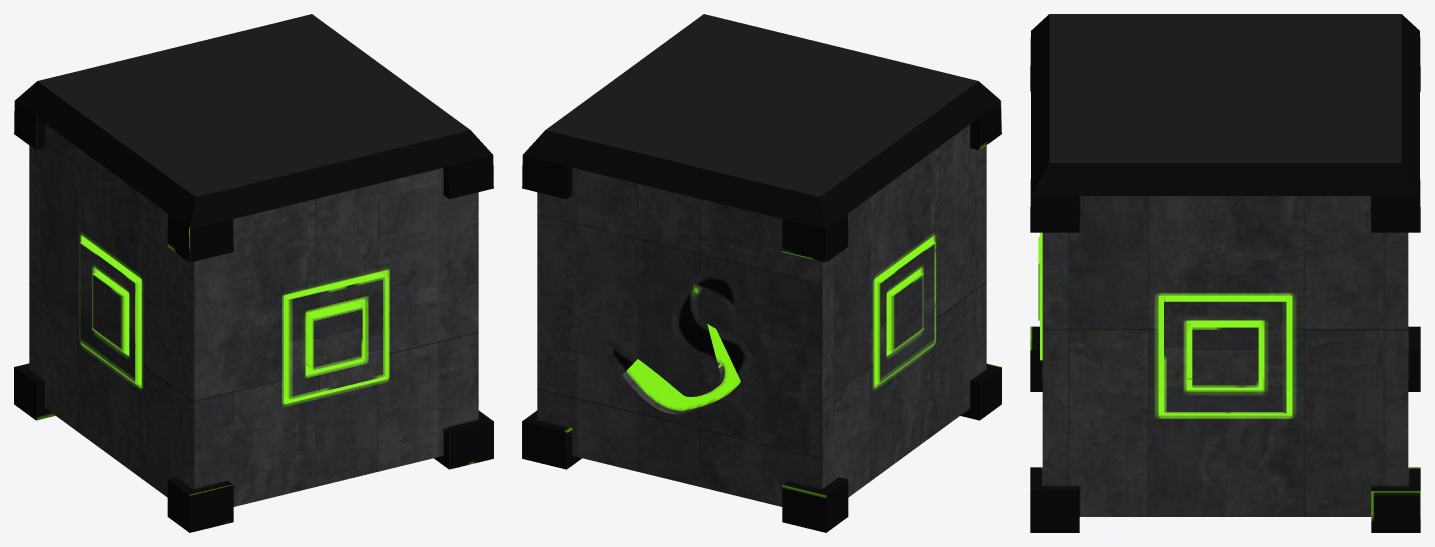
Rendered from Block#3.fbx.
The picture shows the model from 3 angles, left to right: view 1: azimuth 30°, elevation 25°; view 2: azimuth 150°, elevation 25°; view 3: azimuth 270°, elevation 25°; orthographic projection. The views are drawn at different scales.
Parts seen in each view (by area): view 1: Block#2; view 2: Block#2; view 3: Block#2.
Part boxes in pixels (x1,y1,x2,y2): Block#2: (14,14,493,532); Block#2: (522,14,1001,532); Block#2: (1030,14,1420,532).
Bounding box in the file's own units: 929 × 951 × 929.
Materials: 2 (1 with a texture image).
